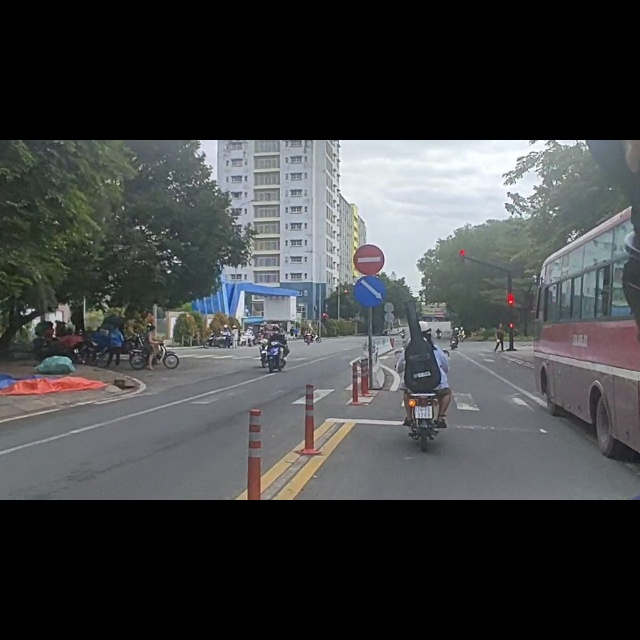bien_hieu_lenh: (353, 239, 390, 296), (354, 183, 387, 241)
